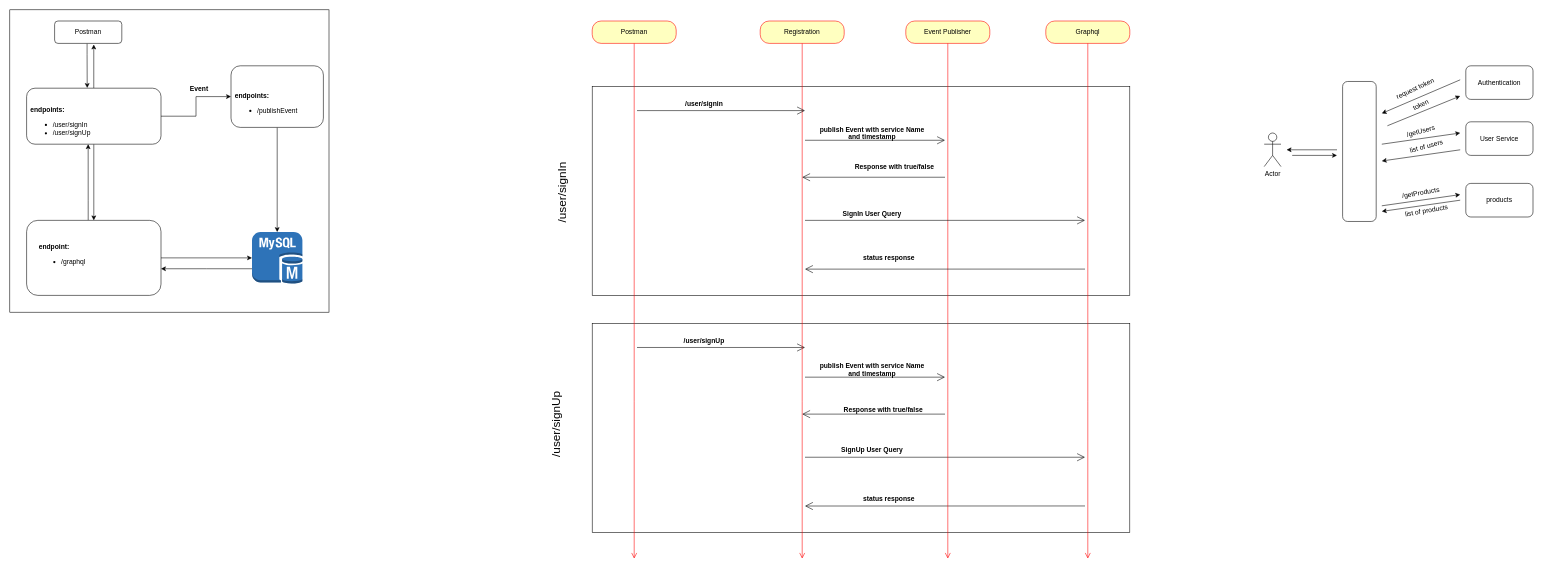
Some shapes in this 1543 by 574 pixel diagram are drawn without their labels. Here are the shapes that lost their labels. From the top down, the box of each, then its label:
(26, 88, 161, 144): Registration Microservice
(230, 65, 323, 127): Event Publisher Microservice
(1342, 81, 1376, 221): DATA LAYER
(26, 220, 161, 295): Graphql Microservice
